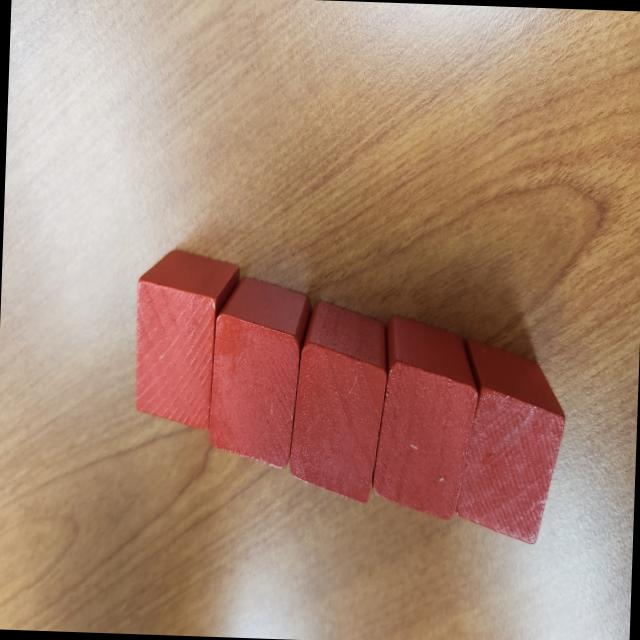red: (452, 340, 568, 546), (370, 316, 480, 522), (287, 298, 391, 506), (208, 274, 314, 474), (131, 248, 241, 432)
